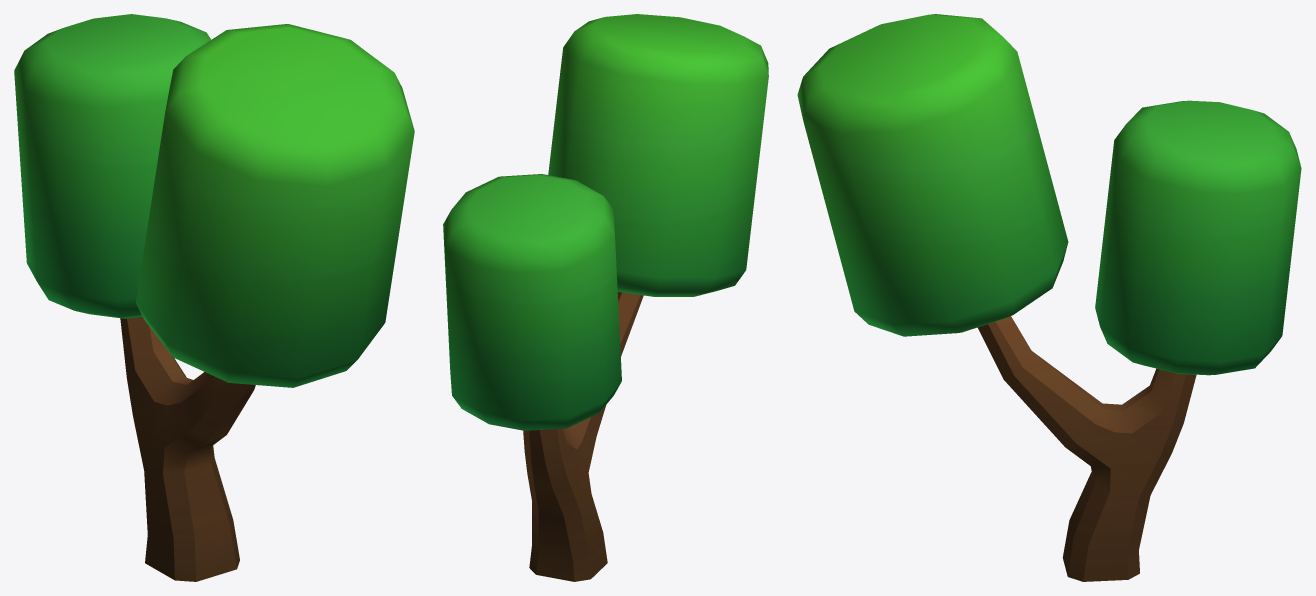
The model's file is Tree_D_2_.fbx.
3 renders of one model, left to right at view 1: azimuth 30°, elevation 25°; view 2: azimuth 150°, elevation 25°; view 3: azimuth 270°, elevation 25°, orthographic. The views are drawn at different scales.
Parts seen in each view (by area): view 1: Tree_D_2; view 2: Tree_D_2; view 3: Tree_D_2.
Part boxes in pixels (x1=…): Tree_D_2: x1=14, y1=14, x2=414, y2=581; Tree_D_2: x1=443, y1=14, x2=768, y2=581; Tree_D_2: x1=797, y1=14, x2=1301, y2=581.
Bounding box in the file's own units: 169 × 431 × 376.
